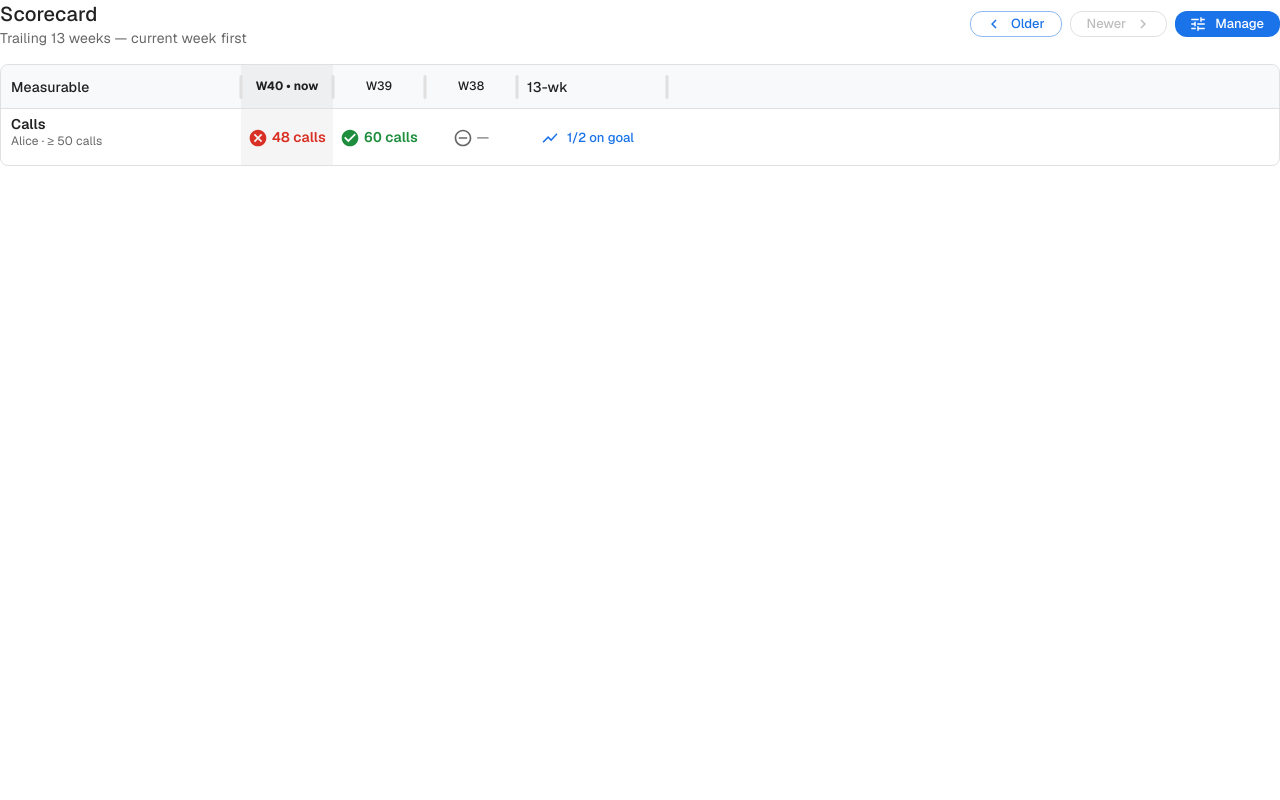
Test: ScorecardGrid › shows Manage only to managers and opens the manage dialog
The image size is (1280, 800).
What coordinates should you click on to do the following:
click the button "Manage"
I would click on:
 (1228, 24)
Its box is [1175, 11, 1279, 37].
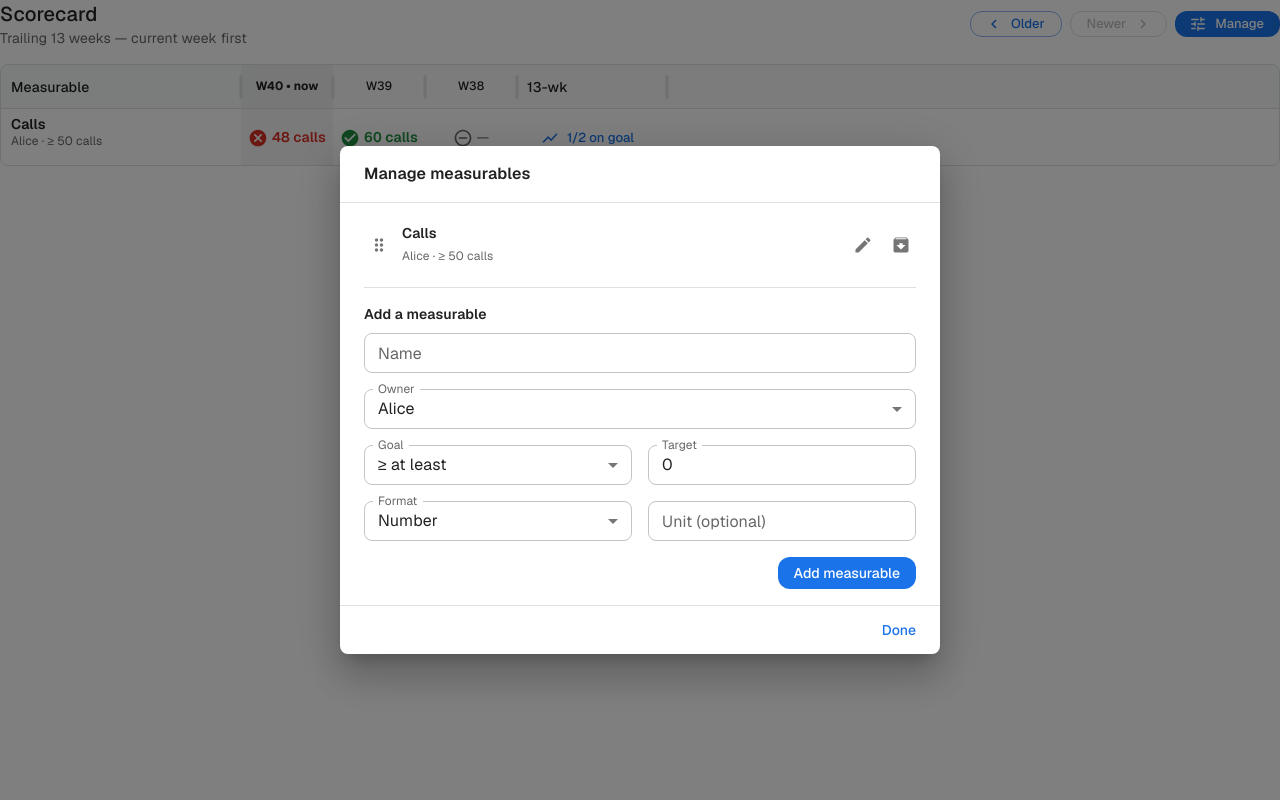
Expected: the dialog "Manage measurables" is shown, [340, 146, 940, 654]
